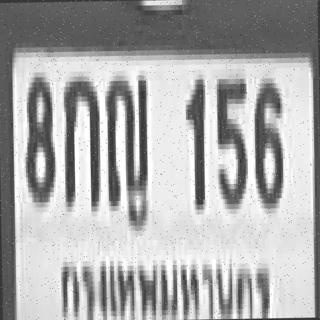A01: (61, 71, 99, 207)
A13: (104, 68, 147, 208)
N01: (183, 74, 205, 205)
N05: (214, 74, 247, 204)
N06: (252, 73, 282, 204)
N08: (22, 72, 54, 202)
P04: (51, 238, 271, 320)
